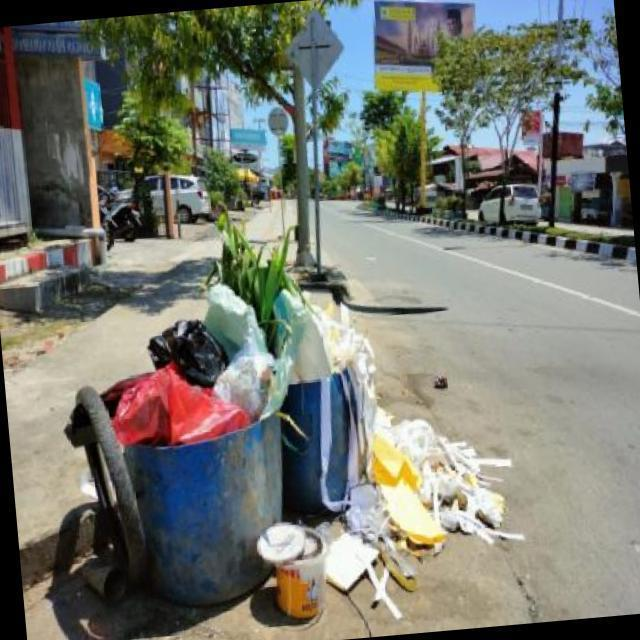Garbage_Bag: (143, 311, 234, 394)
